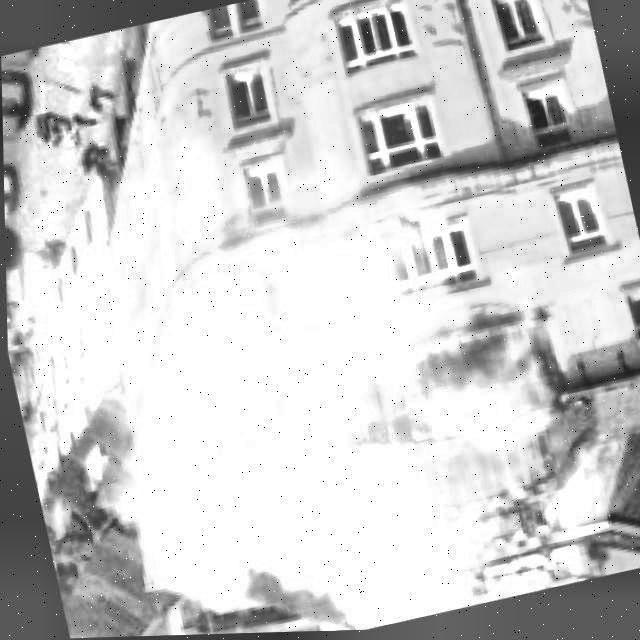Smoke: (2, 19, 638, 639)
